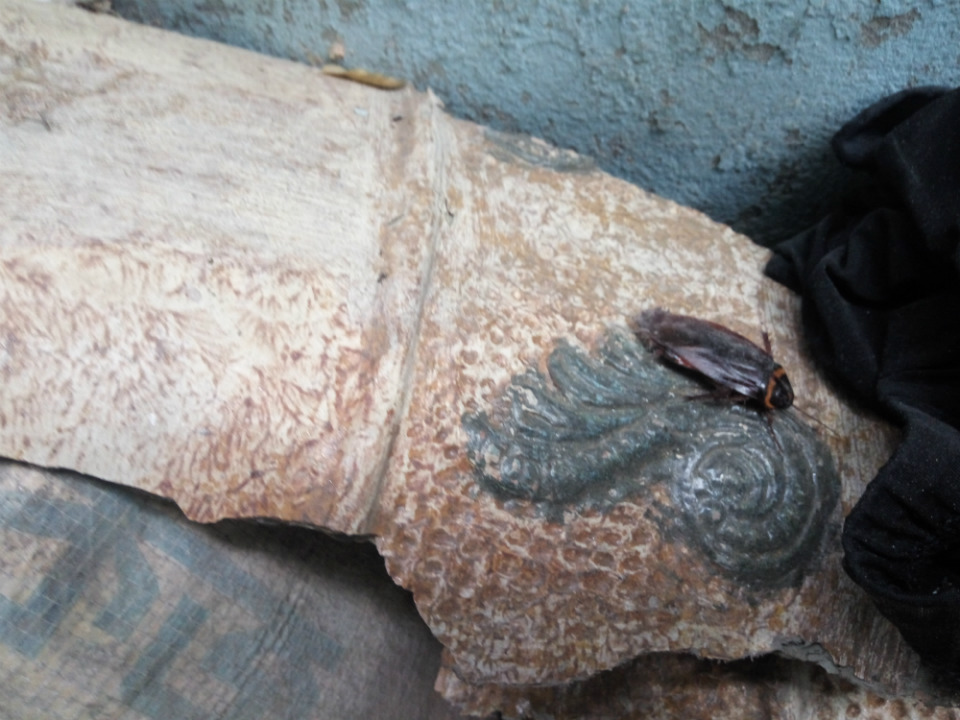cockroach: (615, 277, 802, 433)
